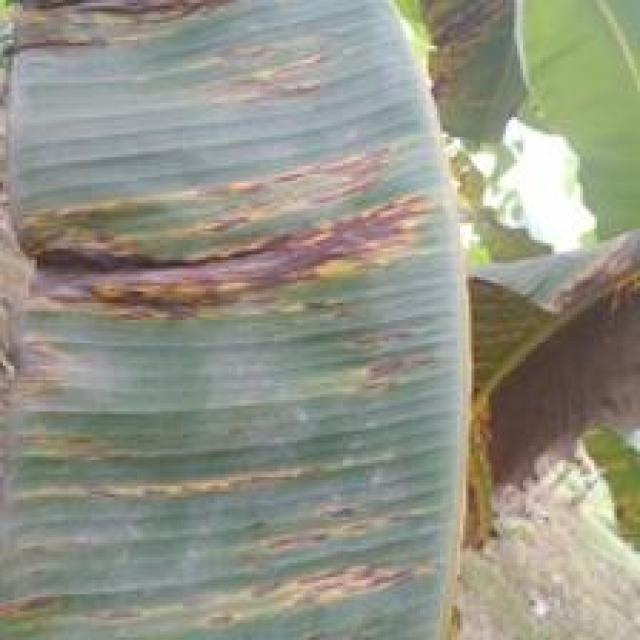Early_leaf_spot: (6, 161, 448, 310), (174, 531, 414, 640), (225, 471, 435, 563), (0, 0, 226, 69), (319, 285, 455, 399), (0, 412, 133, 521), (0, 565, 179, 640), (114, 451, 341, 510), (177, 39, 349, 114), (0, 508, 139, 580), (0, 317, 103, 414)
